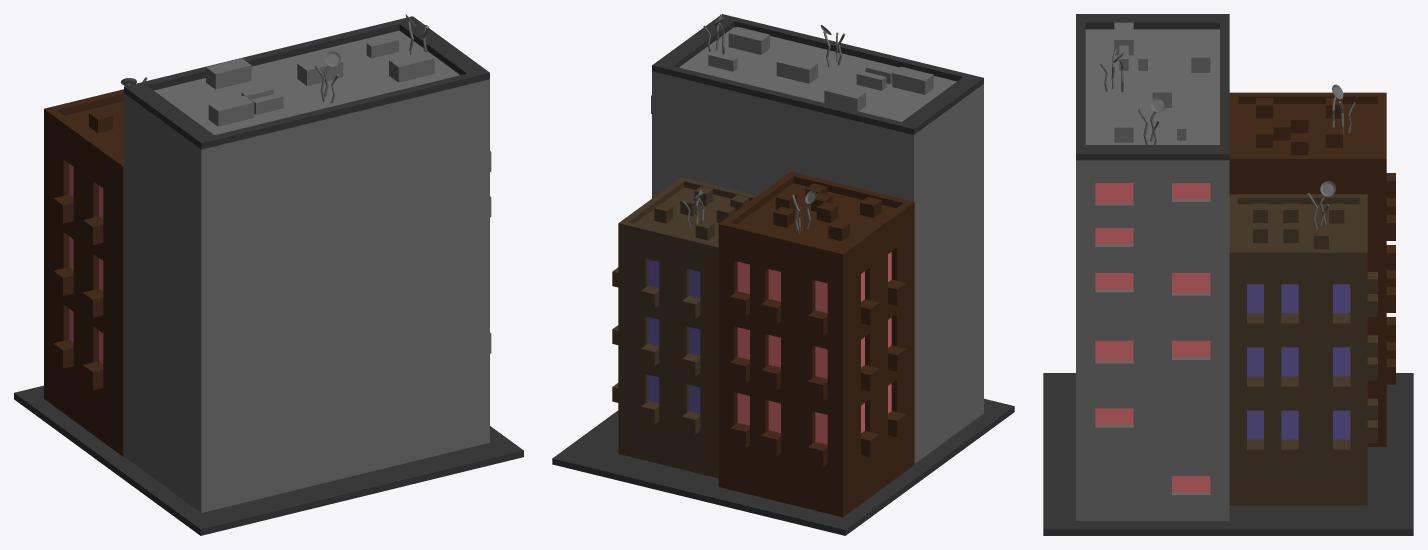
The picture shows the model from 3 angles, left to right: view 1: azimuth 30°, elevation 25°; view 2: azimuth 150°, elevation 25°; view 3: azimuth 270°, elevation 25°; orthographic projection. The views are drawn at different scales.
Visible parts, largest first — view 1: Cube.006, Cube.008, Floor.003; view 2: Cube.006, Cube.008, Cube.007, Floor.003; view 3: Cube.006, Cube.007, Cube.008, Floor.003.
Boxes of the visible parts, <box> form: Cube.006: <box>124,16,491,512</box>; Cube.008: <box>44,89,123,456</box>; Floor.003: <box>14,385,523,535</box>; Cube.006: <box>651,14,983,463</box>; Cube.008: <box>718,171,914,517</box>; Cube.007: <box>612,177,756,478</box>; Floor.003: <box>552,398,1014,535</box>; Cube.006: <box>1076,14,1229,520</box>; Cube.007: <box>1229,194,1377,505</box>; Cube.008: <box>1229,92,1395,446</box>; Floor.003: <box>1043,373,1413,535</box>.
Size of the model in its own units: 800 by 978 by 800.
